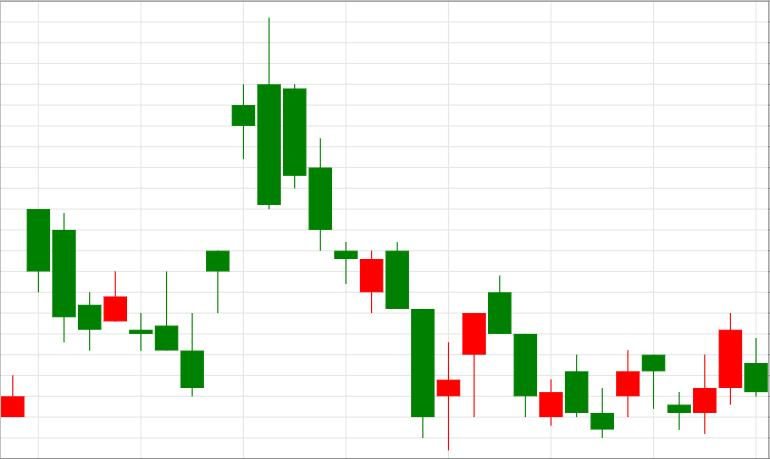morning_star_rise: (488, 276, 639, 438)
